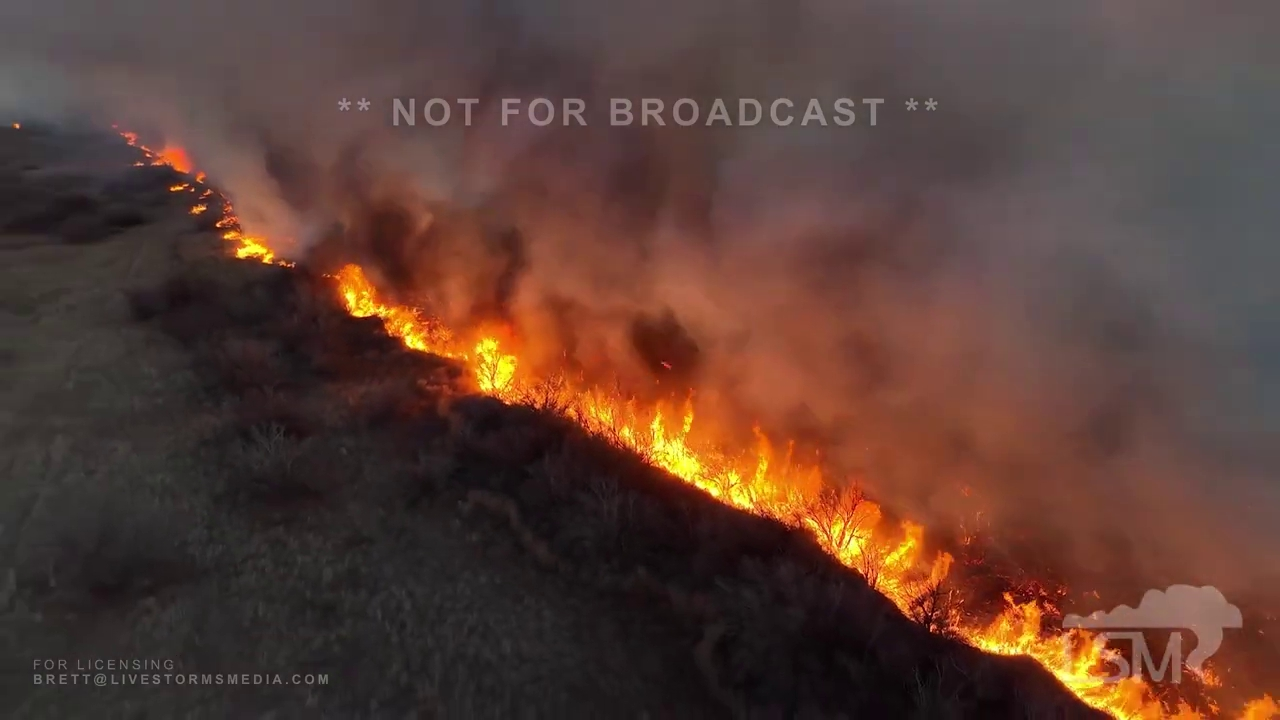forest_fire: (332, 265, 954, 610), (945, 595, 1205, 718), (120, 131, 289, 264), (1238, 695, 1279, 718), (1200, 670, 1219, 685), (1209, 707, 1210, 709), (960, 592, 961, 593)
